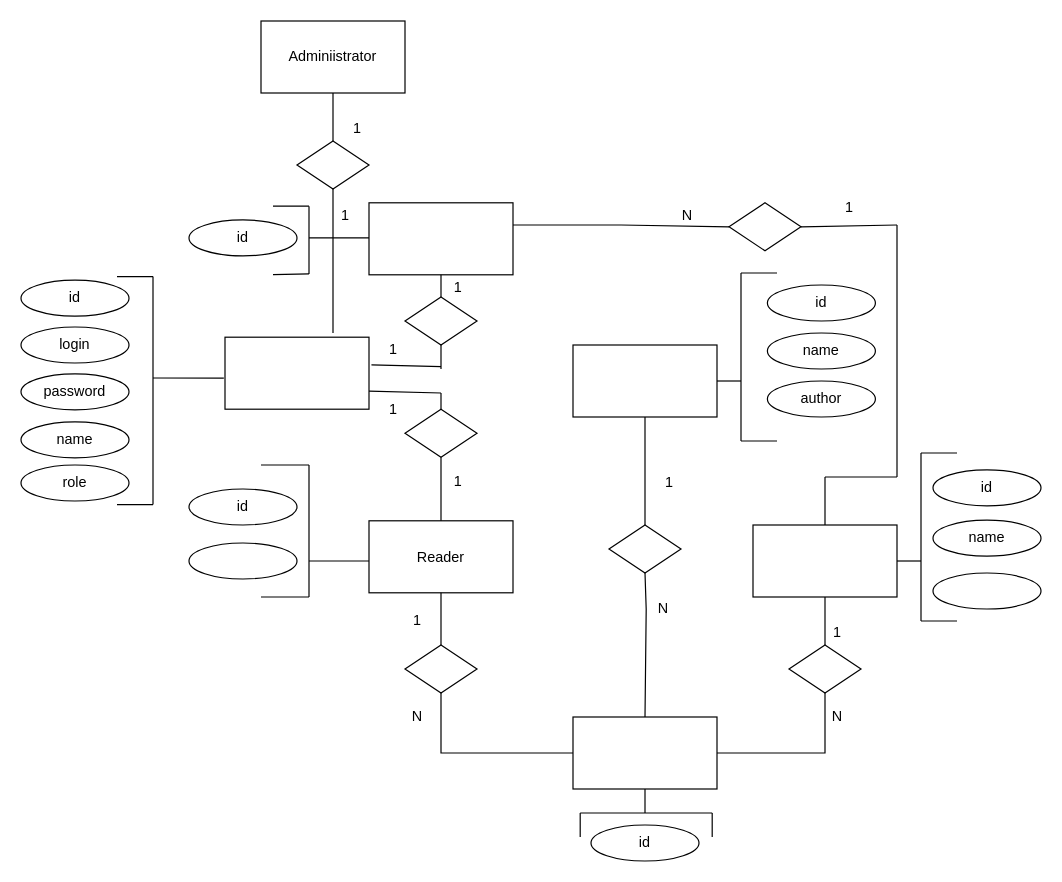
This 1062x882 diagram has some shape labels left out. The box of each missing label's shape, as (x1, y1, x2, y2) in pixels:
Account: (224, 336, 369, 409)
address: (932, 572, 1041, 609)
Book: (572, 344, 717, 417)
BookItem: (572, 716, 717, 789)
Librarian: (368, 202, 513, 275)
Library: (752, 524, 897, 597)
phone: (188, 542, 297, 579)
